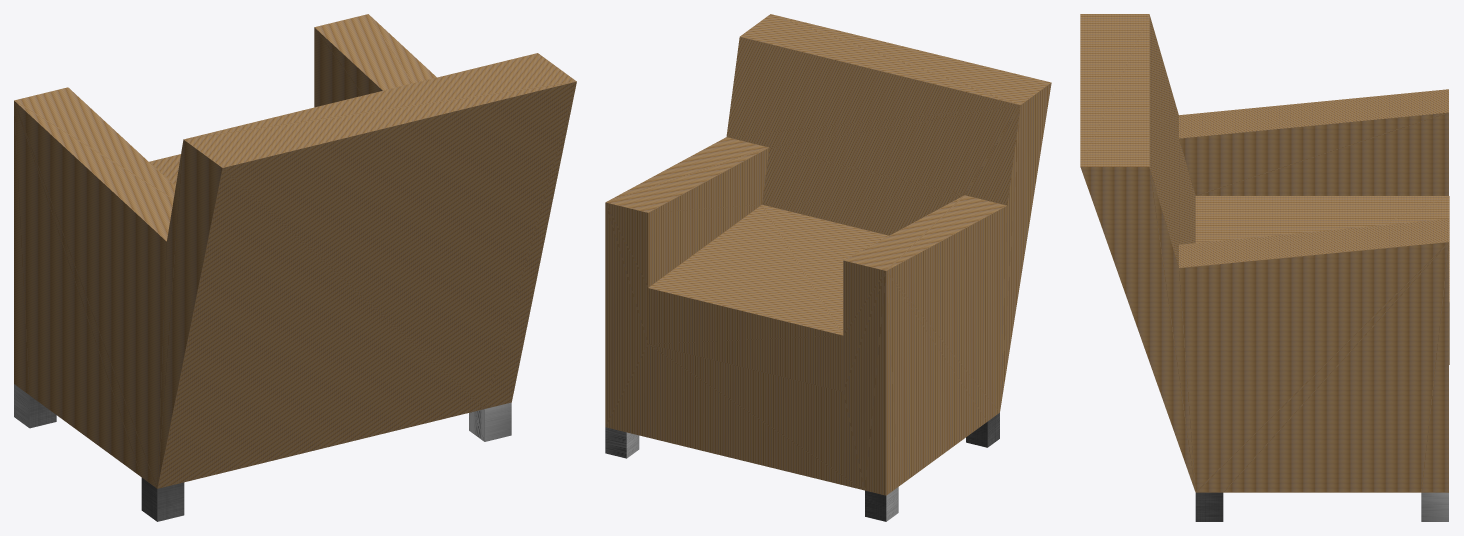
The model's file is lazyChair.dae.
The picture shows the model from 3 angles, left to right: view 1: azimuth 30°, elevation 25°; view 2: azimuth 150°, elevation 25°; view 3: azimuth 270°, elevation 25°; orthographic projection. The views are drawn at different scales.
Visible parts, largest first — view 1: SketchUp (×4); view 2: SketchUp (×4); view 3: SketchUp (×3).
Boxes of the visible parts, x1,y1,x2,y2 form: SketchUp (×4): (14, 14, 576, 521); SketchUp (×4): (605, 14, 1051, 521); SketchUp (×3): (1080, 14, 1449, 521).
Bounding box in the file's own units: 30.91 × 31.54 × 33.46.
Materials: 4 (3 with a texture image).
